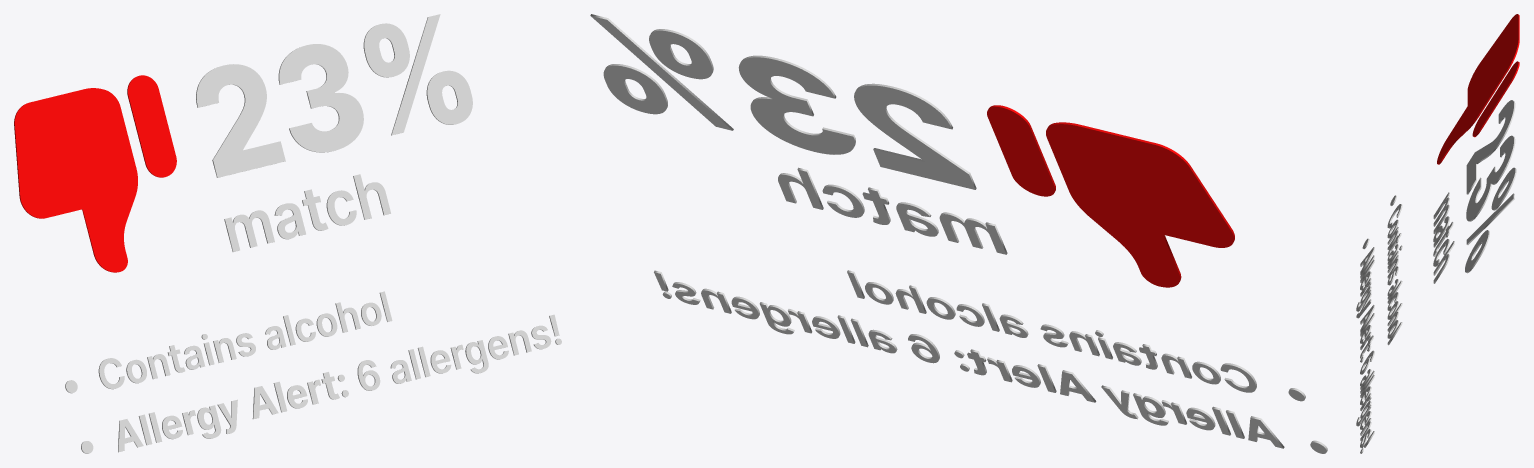
File: badCard.obj
The picture shows the model from 3 angles, left to right: view 1: azimuth 30°, elevation 25°; view 2: azimuth 150°, elevation 25°; view 3: azimuth 270°, elevation 25°; orthographic projection. The views are drawn at different scales.
Parts seen in each view (by area): view 1: Curve.001_Curve.015, Curve.002_Curve.016, Curve.003_Curve.017, Curve_Curve.014; view 2: Curve.001_Curve.015, Curve.002_Curve.016, Curve.003_Curve.017, Curve_Curve.014; view 3: Curve.001_Curve.015, Curve.003_Curve.017, Curve.002_Curve.016, Curve_Curve.014.
Part boxes in pixels (x1,y1,x2,y2): Curve.001_Curve.015: (14, 75, 176, 272); Curve.002_Curve.016: (196, 14, 472, 177); Curve.003_Curve.017: (65, 291, 561, 453); Curve_Curve.014: (224, 174, 390, 251); Curve.001_Curve.015: (987, 105, 1234, 287); Curve.002_Curve.016: (590, 14, 976, 189); Curve.003_Curve.017: (654, 270, 1327, 453); Curve_Curve.014: (778, 167, 1007, 254); Curve.001_Curve.015: (1437, 14, 1519, 164); Curve.003_Curve.017: (1356, 195, 1402, 453); Curve.002_Curve.016: (1465, 100, 1516, 273); Curve_Curve.014: (1433, 192, 1454, 283).
Bounding box in the file's own units: 1.36 × 0.7931 × 0.4602.
